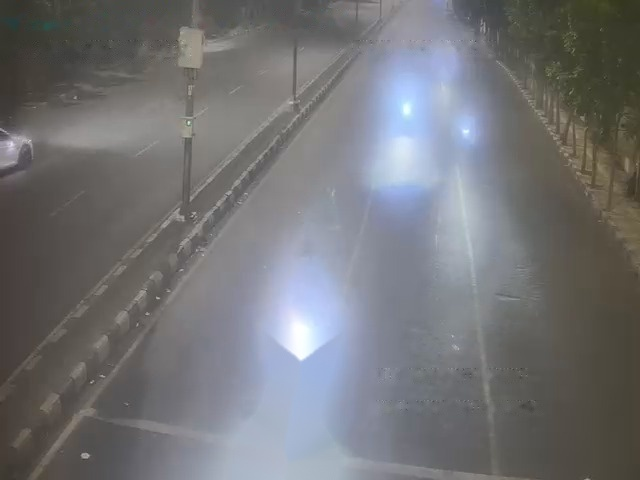Mobil: (0, 126, 32, 172)
Motor: (284, 305, 316, 355), (396, 90, 421, 131), (458, 119, 474, 147)
